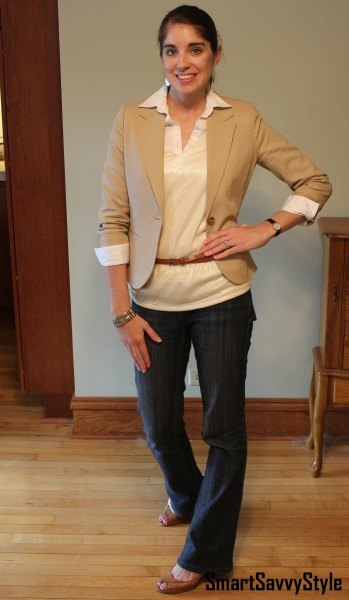F_W_suit jacket: (83, 84, 324, 296)
